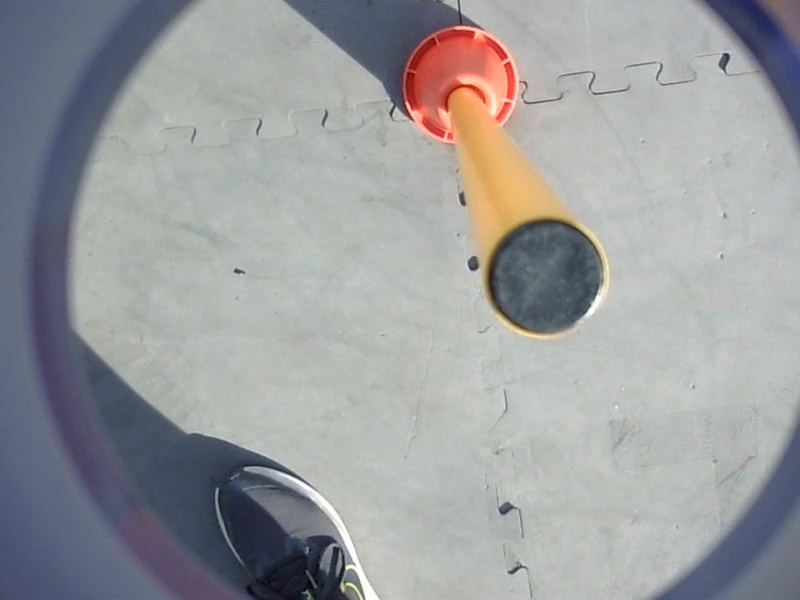tip: (475, 208, 614, 345)
